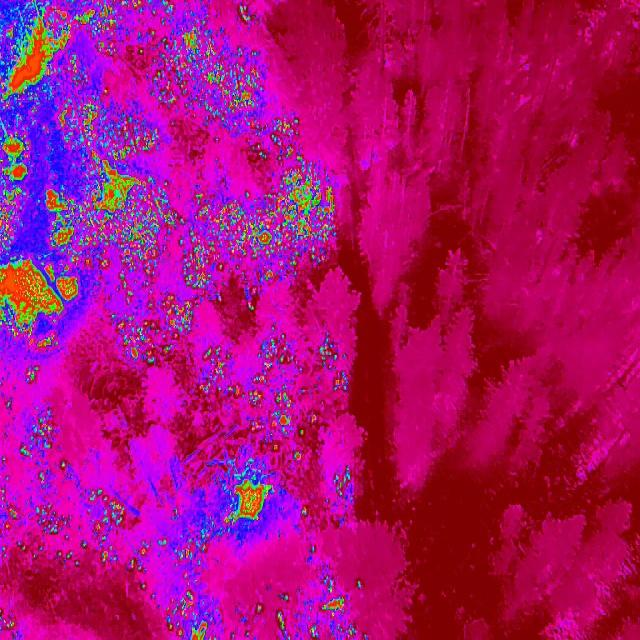fire: (176, 169, 340, 296), (149, 0, 269, 126), (250, 334, 324, 468), (1, 253, 90, 356), (0, 463, 86, 569), (81, 160, 173, 252), (0, 0, 79, 106), (54, 89, 112, 180), (70, 1, 152, 57), (149, 294, 208, 366), (0, 130, 34, 250), (141, 582, 208, 640), (86, 486, 132, 566), (100, 249, 163, 307), (218, 471, 281, 527), (38, 187, 85, 251), (262, 110, 307, 172), (14, 406, 56, 464), (202, 346, 246, 400), (106, 120, 164, 160), (106, 312, 148, 367), (321, 335, 356, 393), (160, 534, 210, 574), (253, 596, 294, 640), (330, 462, 364, 508), (314, 582, 354, 618), (125, 540, 153, 575), (309, 624, 358, 640), (20, 364, 44, 387), (0, 608, 17, 634), (244, 298, 261, 316), (299, 502, 308, 522)
